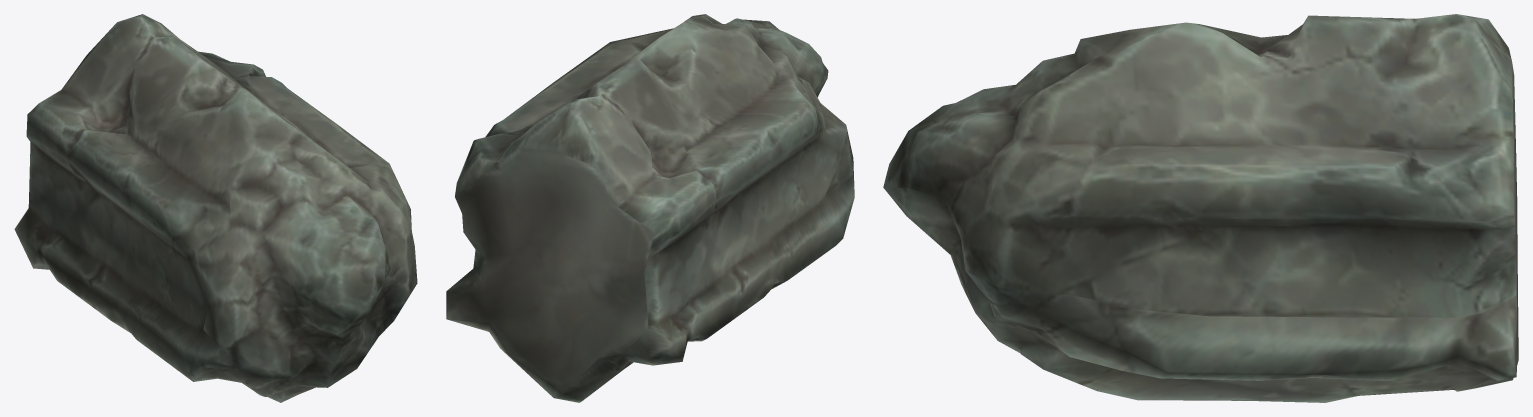
Rendered from Ruins_Pillar_Dmg_A.fbx.
3 views of the same model, side by side, from view 1: azimuth 30°, elevation 25°; view 2: azimuth 150°, elevation 25°; view 3: azimuth 270°, elevation 25° (orthographic). The views are drawn at different scales.
Visible parts, largest first — view 1: Ruins_Pillar_Dmg_A; view 2: Ruins_Pillar_Dmg_A; view 3: Ruins_Pillar_Dmg_A.
Boxes of the visible parts, x1,y1,x2,y2 form: Ruins_Pillar_Dmg_A: [14, 14, 417, 402]; Ruins_Pillar_Dmg_A: [446, 14, 854, 402]; Ruins_Pillar_Dmg_A: [883, 14, 1518, 402].
Size of the model in its own units: 305 by 387 by 580.
